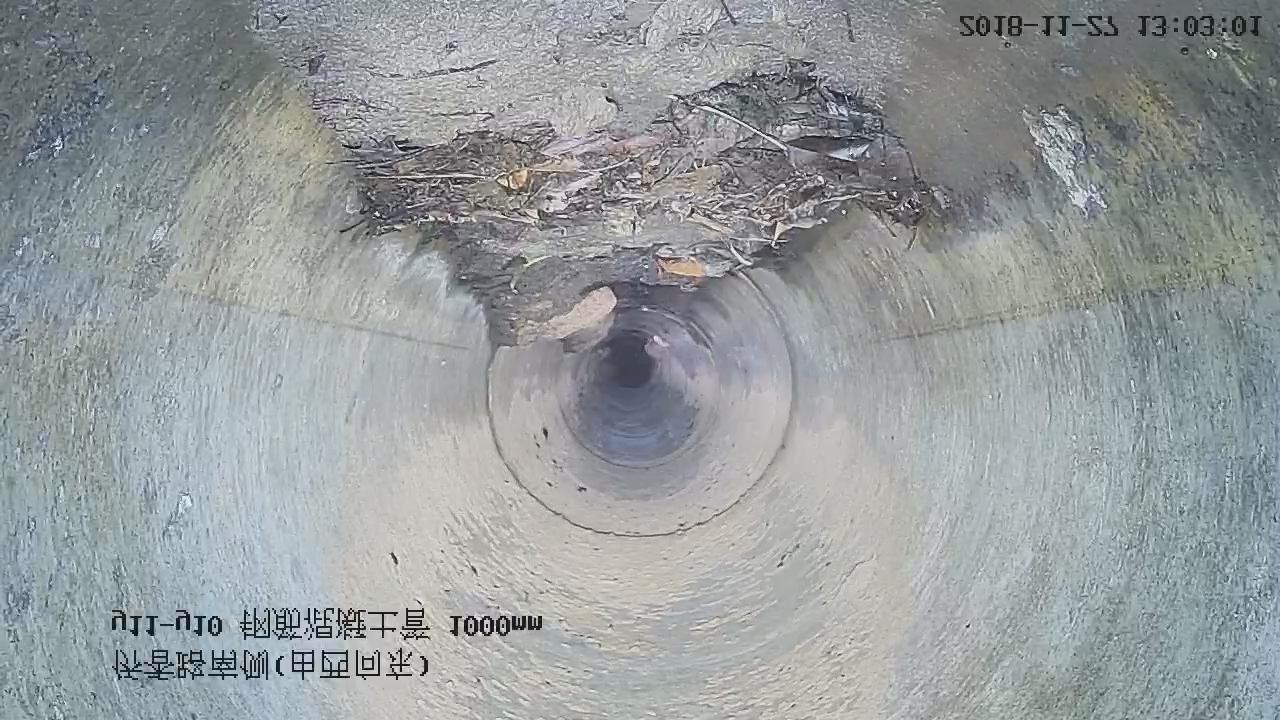CJ: (258, 1, 892, 349)
